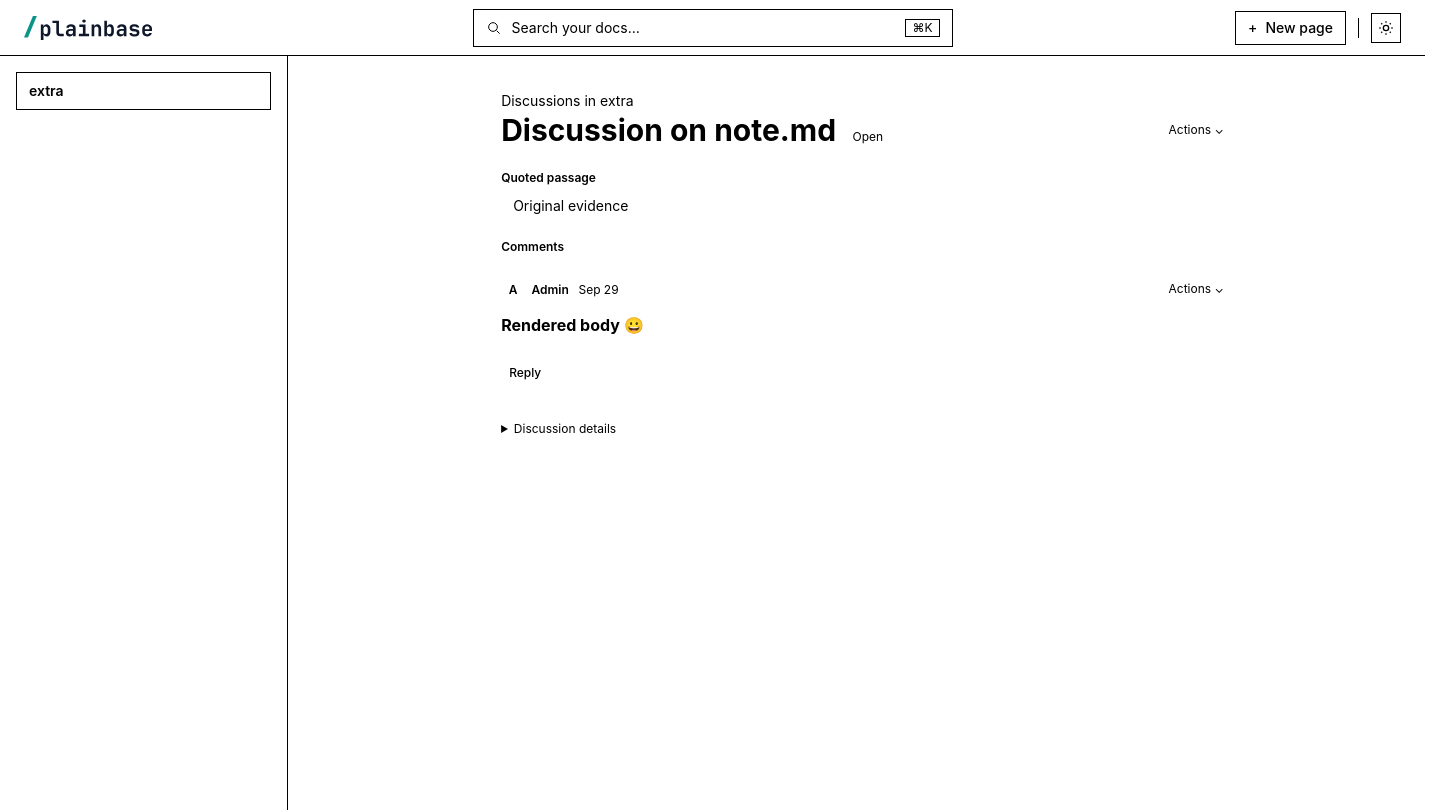
Test case: omits recovery for empty reply validation (server: true) while retaining the draft
Click the button "Reply" at (525,373), box left=501, top=361, right=549, bottom=386
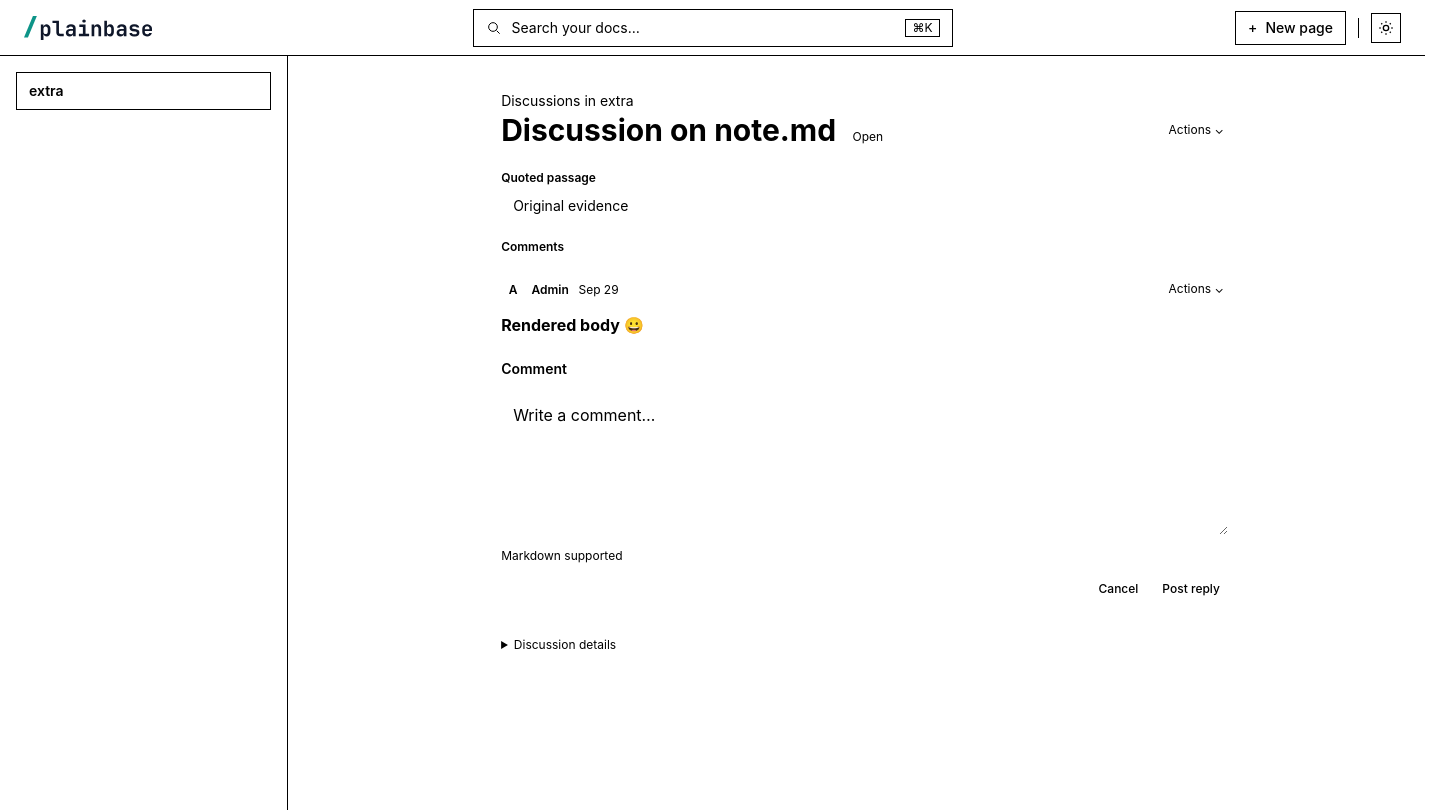
Type "Keep this unsaved comment" into the text box labelled "Comment" at (864,463), box left=501, top=391, right=1228, bottom=535
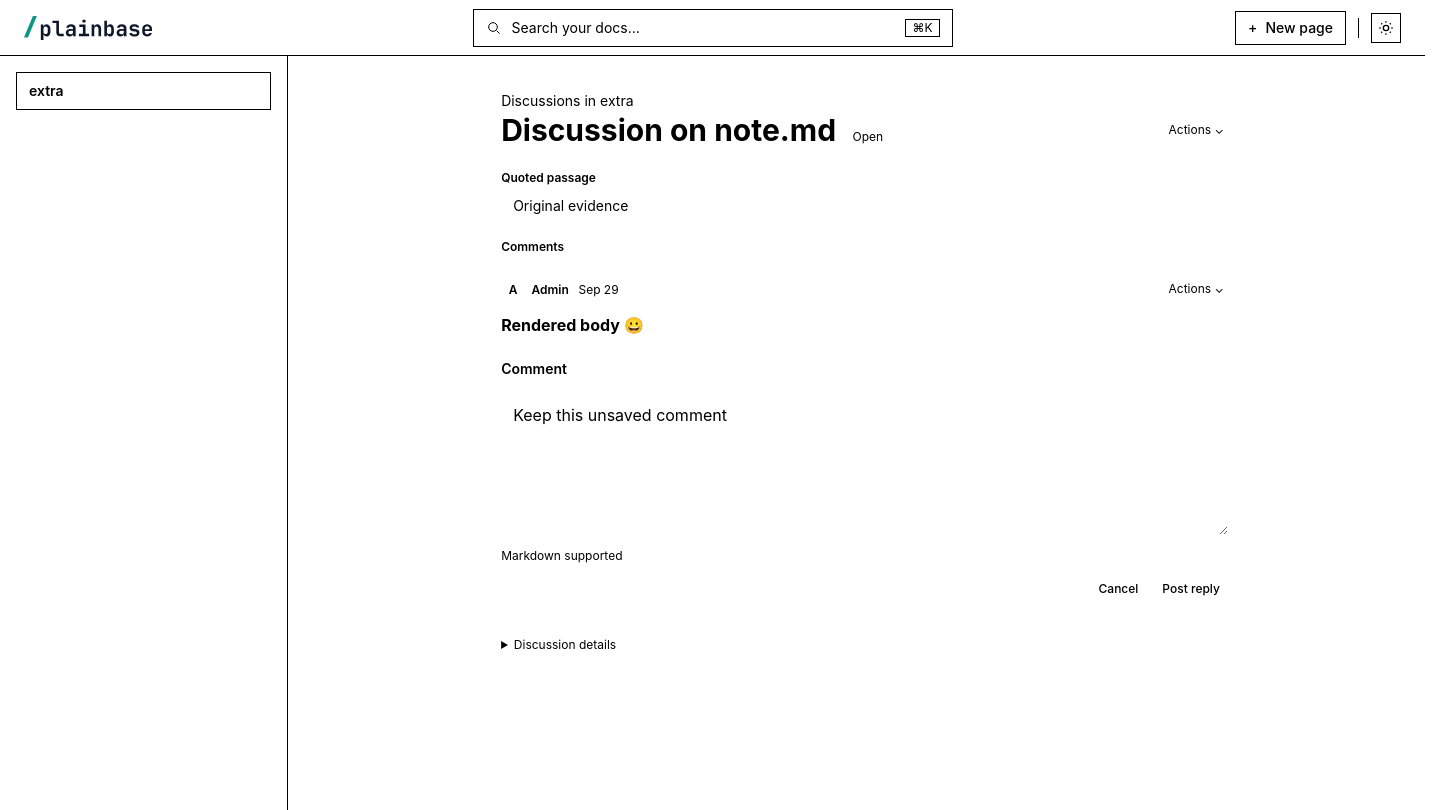
Click the button "Post reply" at (1191,590), box left=1154, top=577, right=1228, bottom=602
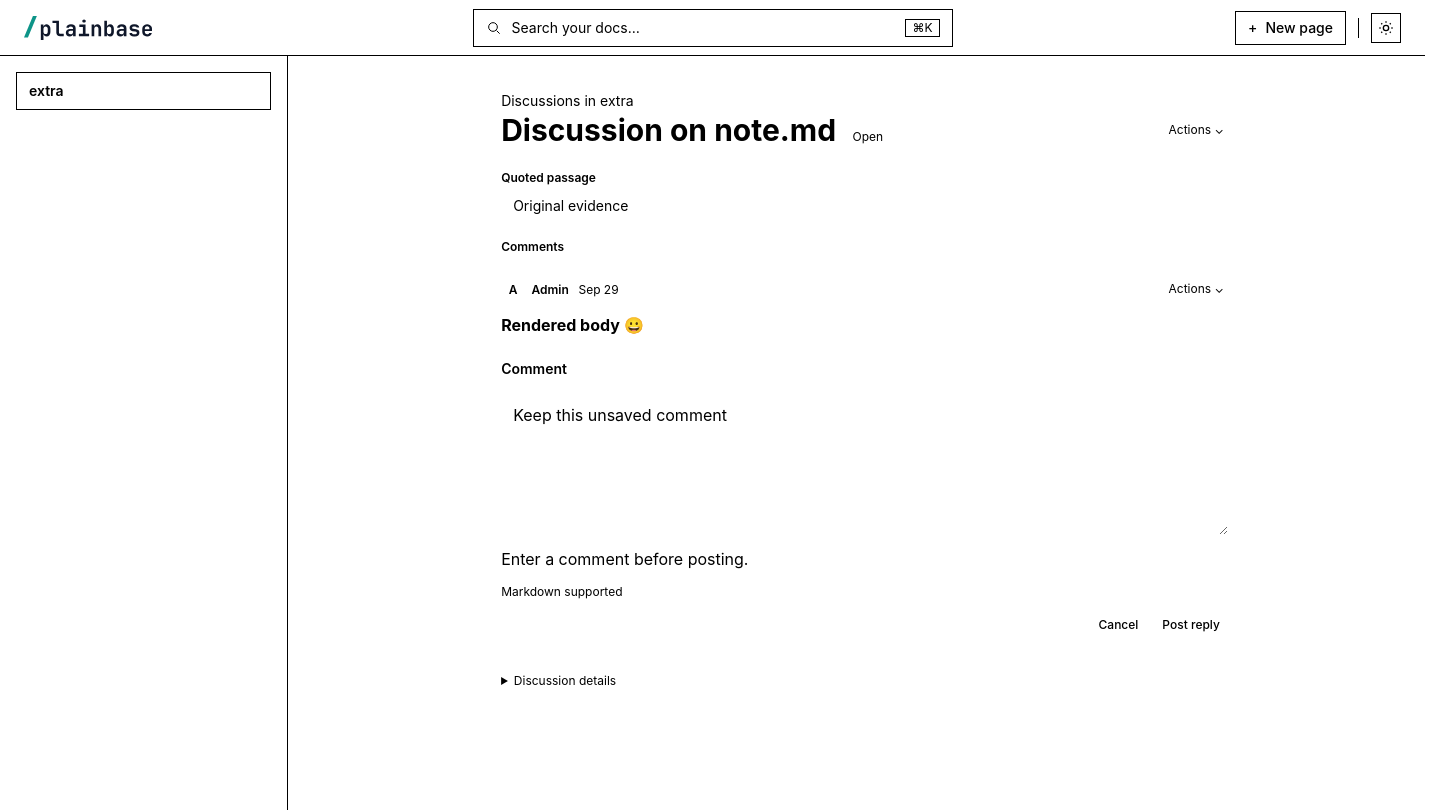
Now the message reads "Enter a comment before posting.", box left=501, top=549, right=748, bottom=569
